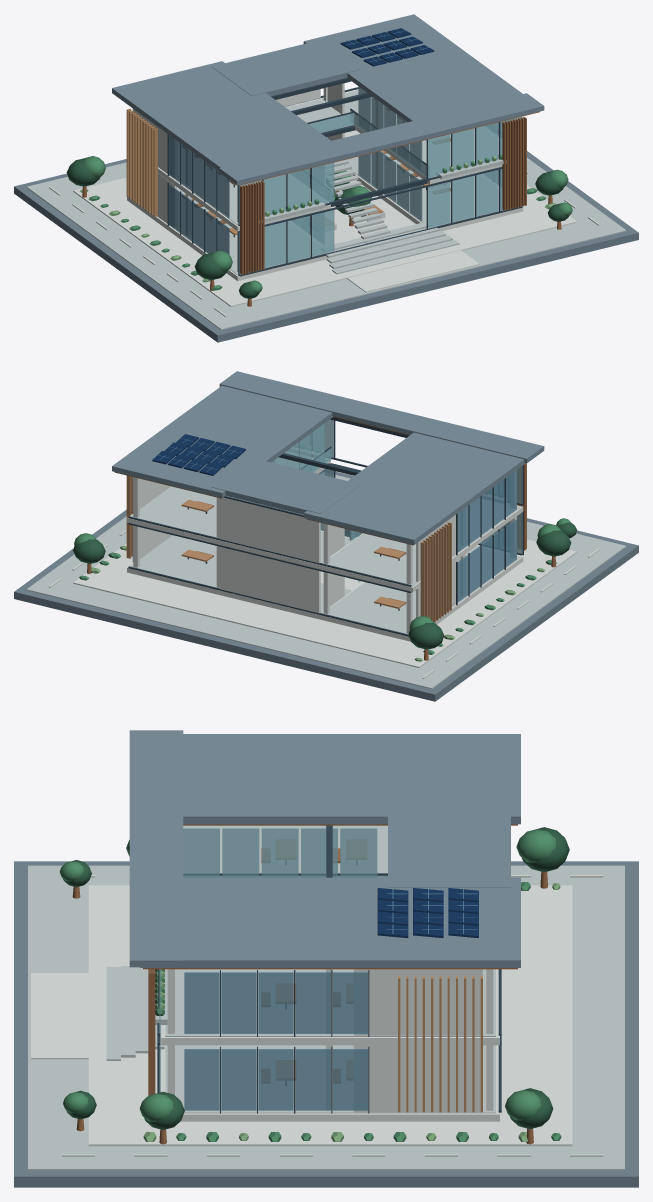
The model's file is nexora-ecolearning.glb.
The picture shows the model from 3 angles, top to bottom: view 1: azimuth 30°, elevation 25°; view 2: azimuth 150°, elevation 25°; view 3: azimuth 270°, elevation 25°; orthographic projection. The views are drawn at different scales.
Visible parts, largest first — view 1: SITE_TOP, ROOF_WING_-1, BUILDING_PAD, ROOF, SITE_PLATFORM, ROOF_ENTRY_CANOPY, ROOF_REAR_BRIDGE, floor1_FINISH_1, floor1_FINISH_-1, floor2_FINISH_1, floor2_FINISH_-1, ENTRY_PLAZA (+37 smaller); view 2: SITE_TOP, BUILDING_PAD, ROOF_WING_-1, ROOF, SITE_PLATFORM, ROOF_ENTRY_CANOPY, ROOF_REAR_BRIDGE, BACK_CORE_6.52, BACK_CORE_2.32, floor1_FINISH_-1, floor2_FINISH_-1, floor2_FINISH_1 (+28 smaller); view 3: SITE_TOP, BUILDING_PAD, ROOF_WING_-1, ROOF, SITE_PLATFORM, ROOF_ENTRY_CANOPY, floor1_FINISH_1, floor2_FINISH_1, ROOF_REAR_BRIDGE, floor2_FINISH_-1, RIGHT_CORE_6.52, RIGHT_CORE_2.32 (+31 smaller).
Boxes of the visible parts, <box> form: SITE_TOP: <box>26,126,626,329</box>; ROOF_WING_-1: <box>112,61,330,171</box>; BUILDING_PAD: <box>73,130,576,306</box>; ROOF: <box>303,14,522,121</box>; SITE_PLATFORM: <box>14,126,638,342</box>; ROOF_ENTRY_CANOPY: <box>219,93,544,185</box>; ROOF_REAR_BRIDGE: <box>212,40,360,96</box>; floor1_FINISH_1: <box>344,153,503,226</box>; floor1_FINISH_-1: <box>175,187,323,274</box>; floor2_FINISH_1: <box>322,90,501,177</box>; floor2_FINISH_-1: <box>175,141,327,225</box>; ENTRY_PLAZA: <box>347,250,479,292</box>; SITE_TOP: <box>26,472,626,688</box>; BUILDING_PAD: <box>73,523,576,667</box>; ROOF_WING_-1: <box>303,432,525,544</box>; ROOF: <box>112,385,333,498</box>; SITE_PLATFORM: <box>14,469,638,701</box>; ROOF_ENTRY_CANOPY: <box>219,371,544,463</box>; ROOF_REAR_BRIDGE: <box>212,458,360,514</box>; BACK_CORE_6.52: <box>220,496,320,563</box>; BACK_CORE_2.32: <box>220,546,320,613</box>; floor1_FINISH_-1: <box>323,546,520,634</box>; floor2_FINISH_-1: <box>323,498,520,586</box>; floor2_FINISH_1: <box>130,451,326,538</box>; SITE_TOP: <box>28,865,624,1170</box>; BUILDING_PAD: <box>88,885,572,1146</box>; ROOF_WING_-1: <box>183,734,520,824</box>; ROOF: <box>140,877,520,969</box>; SITE_PLATFORM: <box>14,861,638,1187</box>; ROOF_ENTRY_CANOPY: <box>129,730,183,967</box>; floor1_FINISH_1: <box>165,1045,495,1113</box>; floor2_FINISH_1: <box>165,969,495,1036</box>; ROOF_REAR_BRIDGE: <box>388,805,510,887</box>; floor2_FINISH_-1: <box>183,825,387,876</box>; RIGHT_CORE_6.52: <box>353,969,482,1035</box>; RIGHT_CORE_2.32: <box>353,1045,480,1112</box>.
Size of the model in its own units: 37 by 10.39 by 31.
